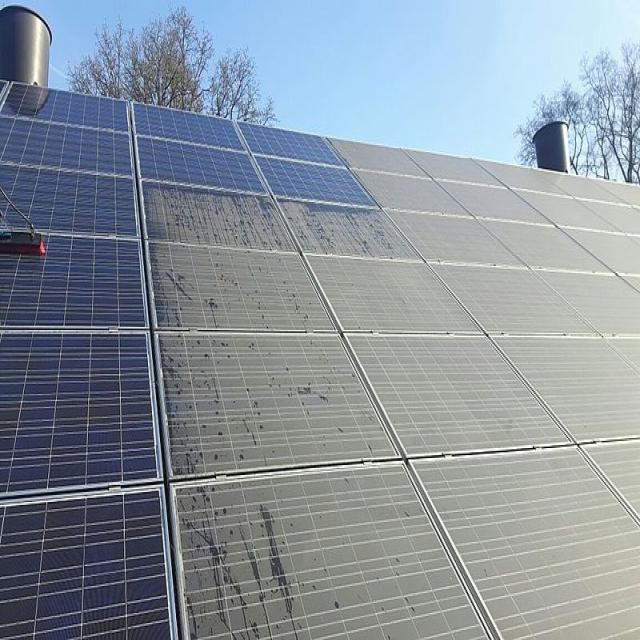Normal Solar Panel: (0, 80, 378, 636)
